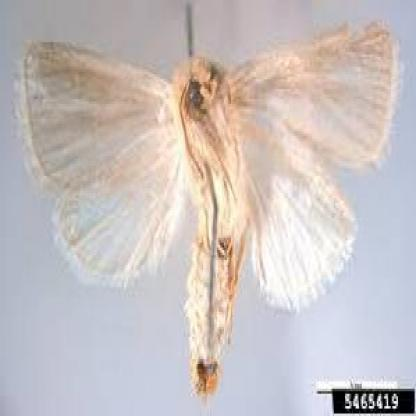stem-borer: (15, 23, 403, 375)
